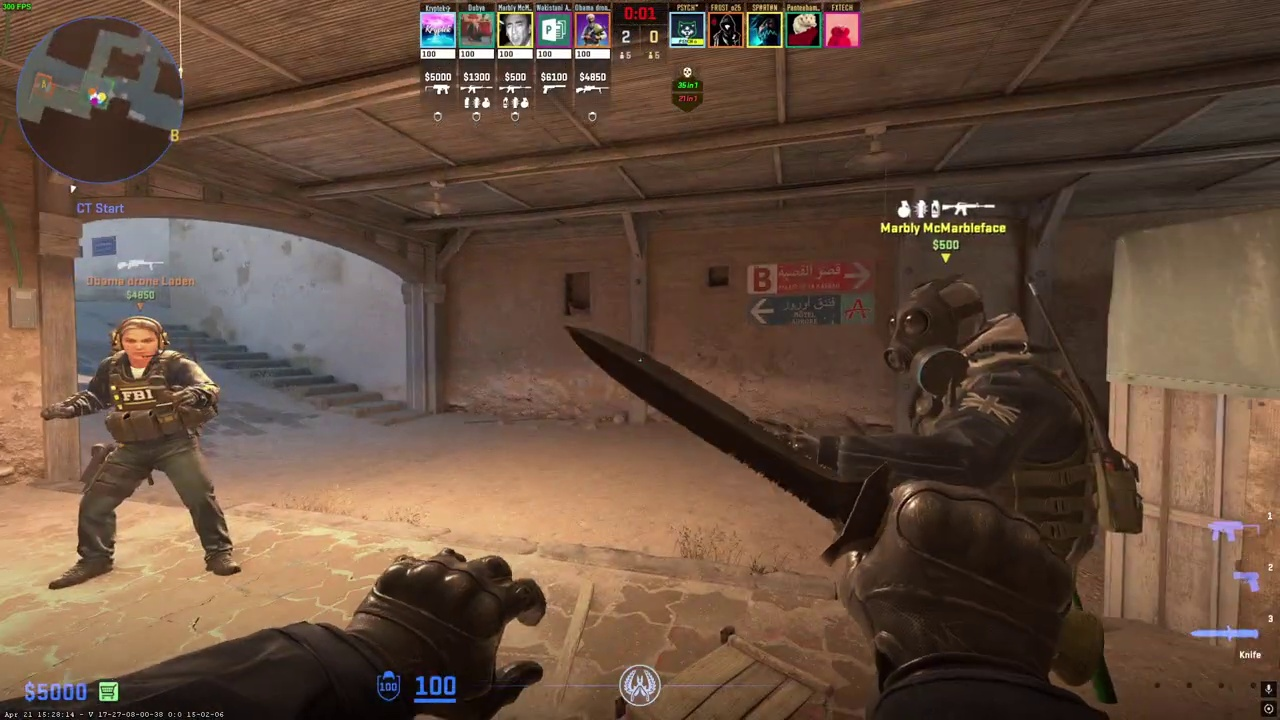CT: (889, 271, 1104, 617), (51, 315, 240, 589)
